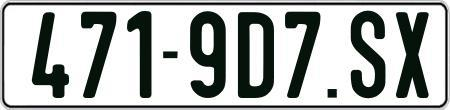1: (126, 11, 154, 103)
4: (29, 10, 67, 97)
7: (282, 11, 320, 103), (81, 9, 119, 100)
9: (189, 10, 227, 98)
D: (237, 9, 277, 97)
S: (348, 9, 388, 96)
X: (395, 11, 430, 97)
